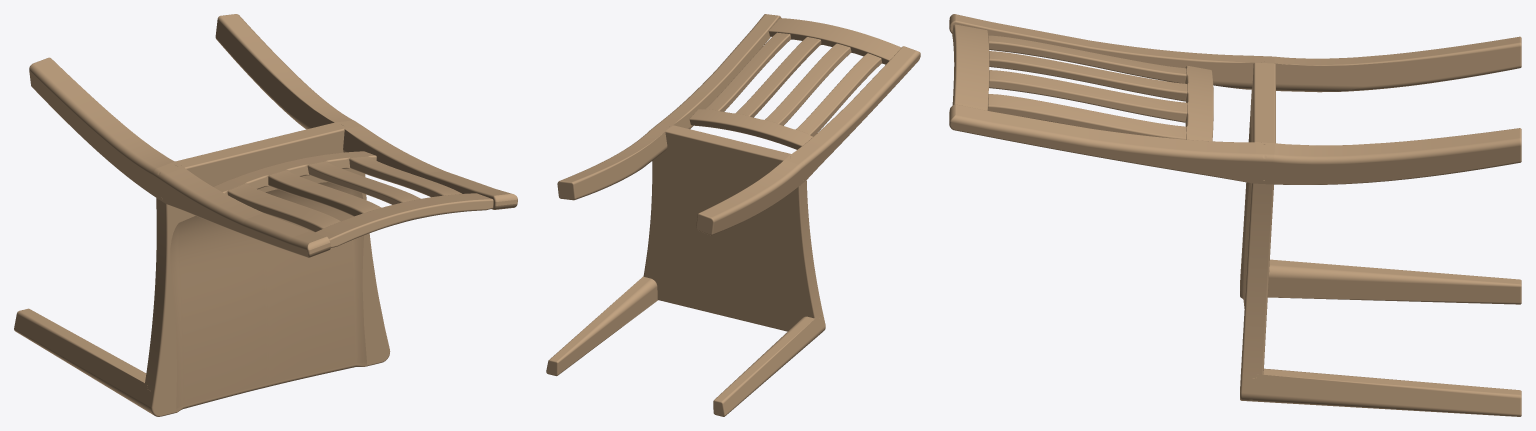
Rendered from Simple Dining Chair.obj.
3 views of the same model, side by side, from view 1: azimuth 30°, elevation 25°; view 2: azimuth 150°, elevation 25°; view 3: azimuth 270°, elevation 25° (orthographic). The views are drawn at different scales.
Parts seen in each view (by area): view 1: Body2 (1), Body3:1, Body1:6, Body3, Body1:1, Body1, Body1:3, Body1:2, Body1:5, Body1:4, Body1:7; view 2: Body2 (1), Body3:1, Body1:6, Body1:7, Body3, Body1:1, Body1:2, Body1, Body1:3, Body1:5, Body1:4; view 3: Body1:6, Body3:1, Body1:7, Body3, Body2 (1), Body1:5, Body1:4, Body1:3, Body1, Body1:1, Body1:2.
Boxes of the visible parts, x1,y1,x2,y2 form: Body2 (1): (145,122,385,412); Body3:1: (29,57,330,257); Body1:6: (215,14,517,209); Body3: (14,308,174,416); Body1:1: (315,193,493,247); Body1: (227,183,340,232); Body1:3: (268,170,381,216); Body1:2: (213,151,376,194); Body1:5: (307,161,420,204); Body1:4: (349,156,461,197); Body1:7: (368,333,390,365); Body2 (1): (643,125,822,331); Body3:1: (696,46,920,235); Body1:6: (557,14,781,200); Body1:7: (546,276,657,376); Body3: (713,312,825,416); Body1:1: (768,18,901,64); Body1:2: (689,109,812,149); Body1: (796,53,881,136); Body1:3: (765,43,851,125); Body1:5: (736,37,821,117); Body1:4: (705,32,790,111); Body1:6: (949,104,1521,184); Body3:1: (949,14,1521,92); Body1:7: (1240,368,1521,416); Body3: (1240,259,1521,304); Body2 (1): (1240,61,1275,386); Body1:5: (989,70,1187,122); Body1:4: (987,94,1186,139); Body1:3: (989,51,1187,101); Body1: (988,35,1186,83); Body1:1: (952,24,989,110); Body1:2: (1185,65,1213,141).
Size of the model in its own units: 47.17 by 54.92 by 94.69.
